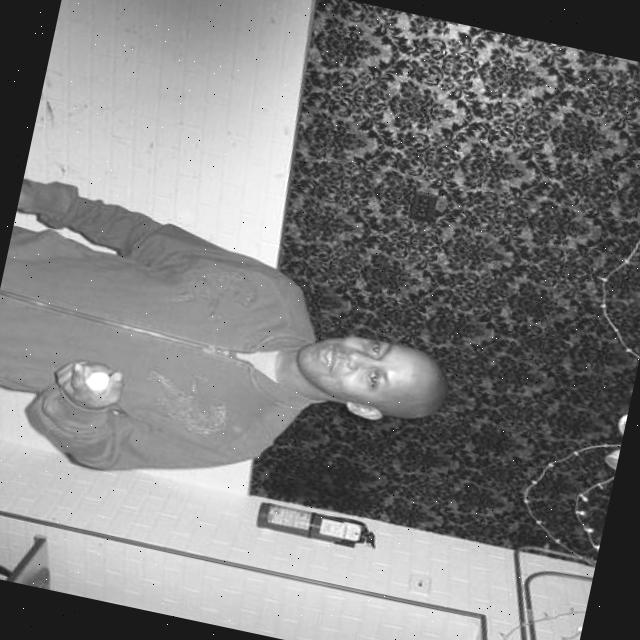ping-pong-ball: (82, 363, 114, 392)
